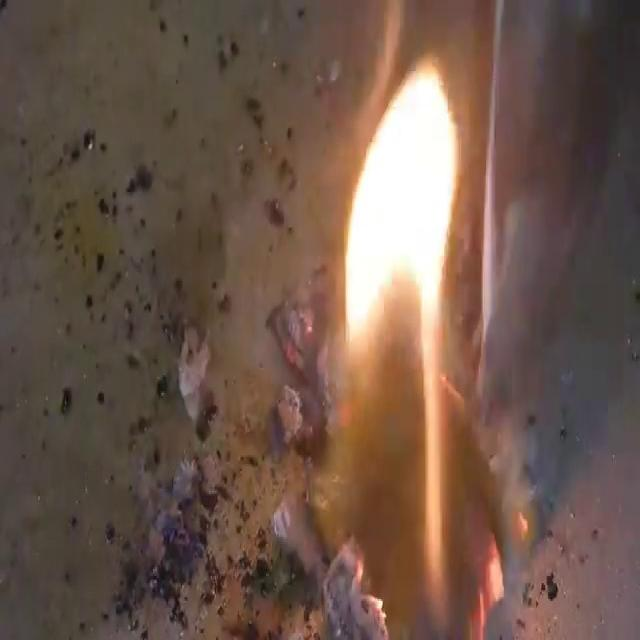Fire: (4, 4, 636, 636), (339, 55, 466, 629), (341, 57, 463, 350)
